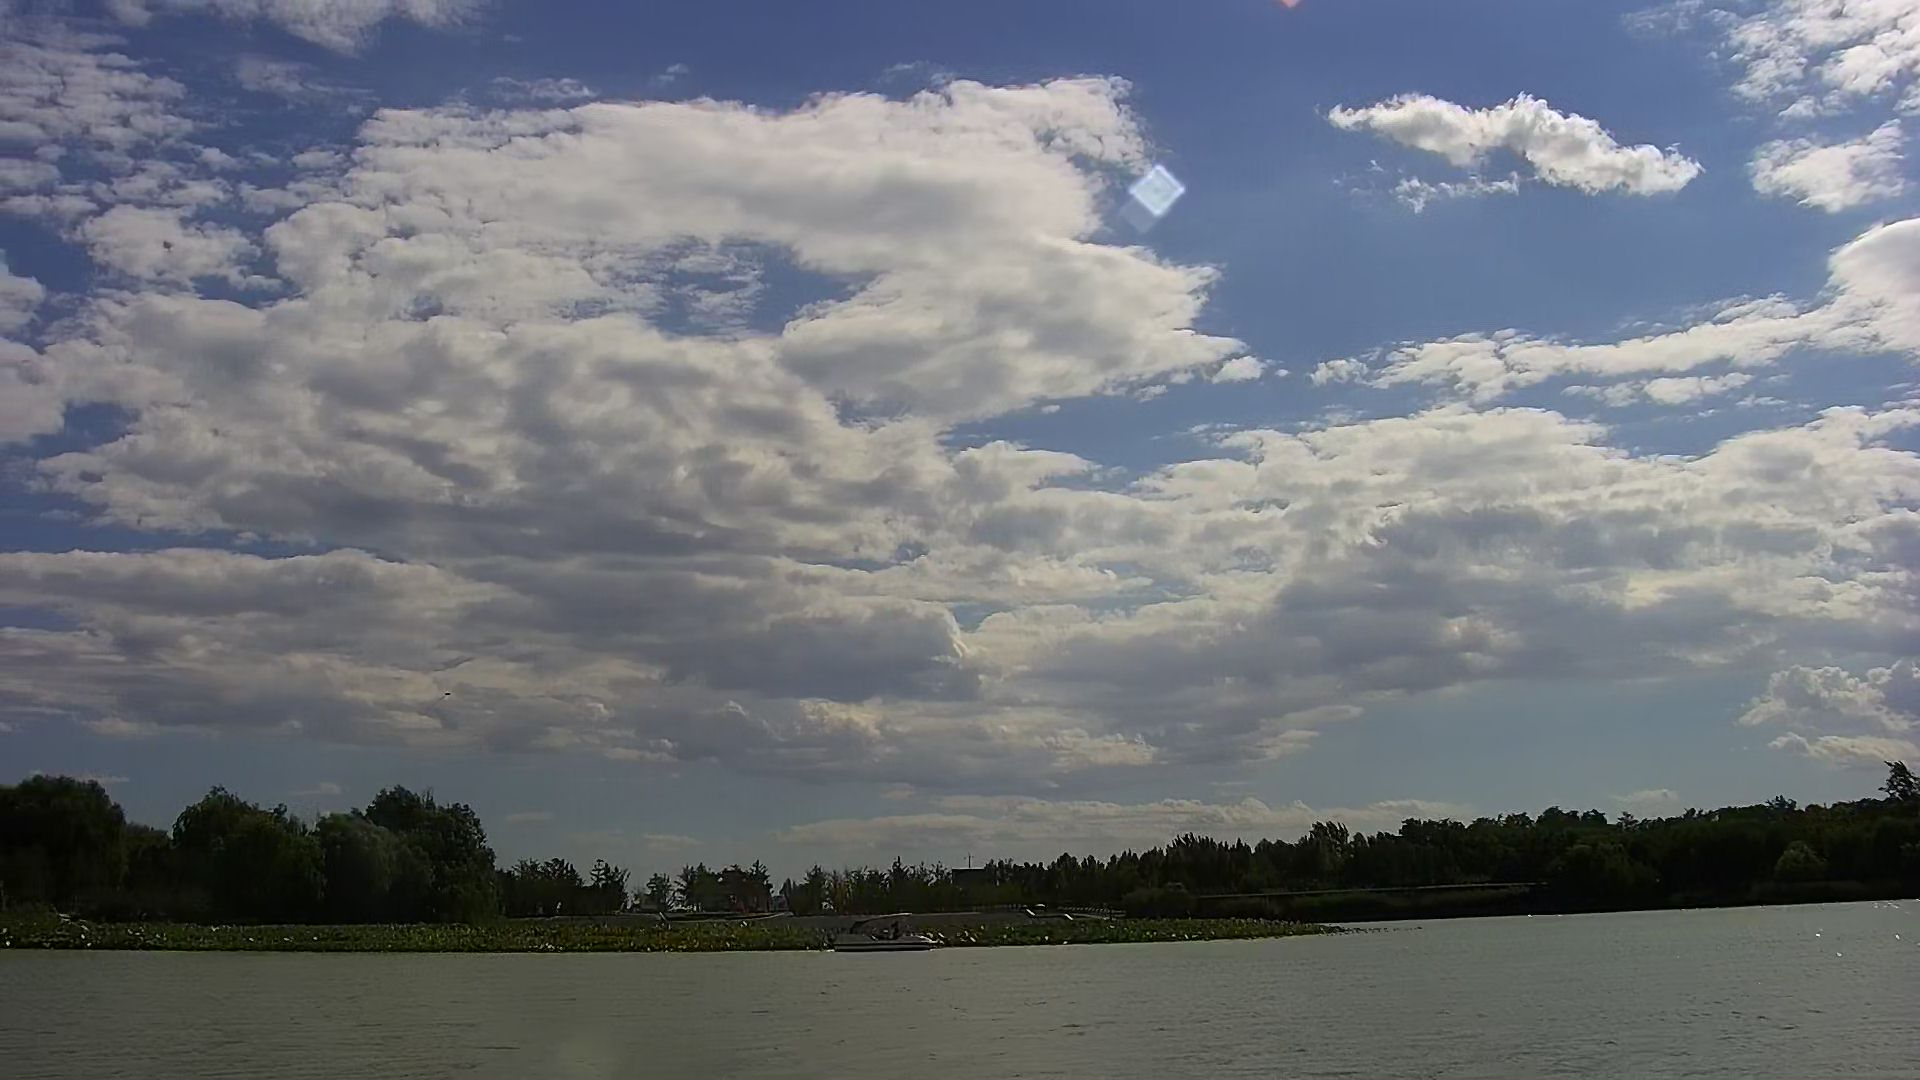boat: (819, 905, 949, 955)
